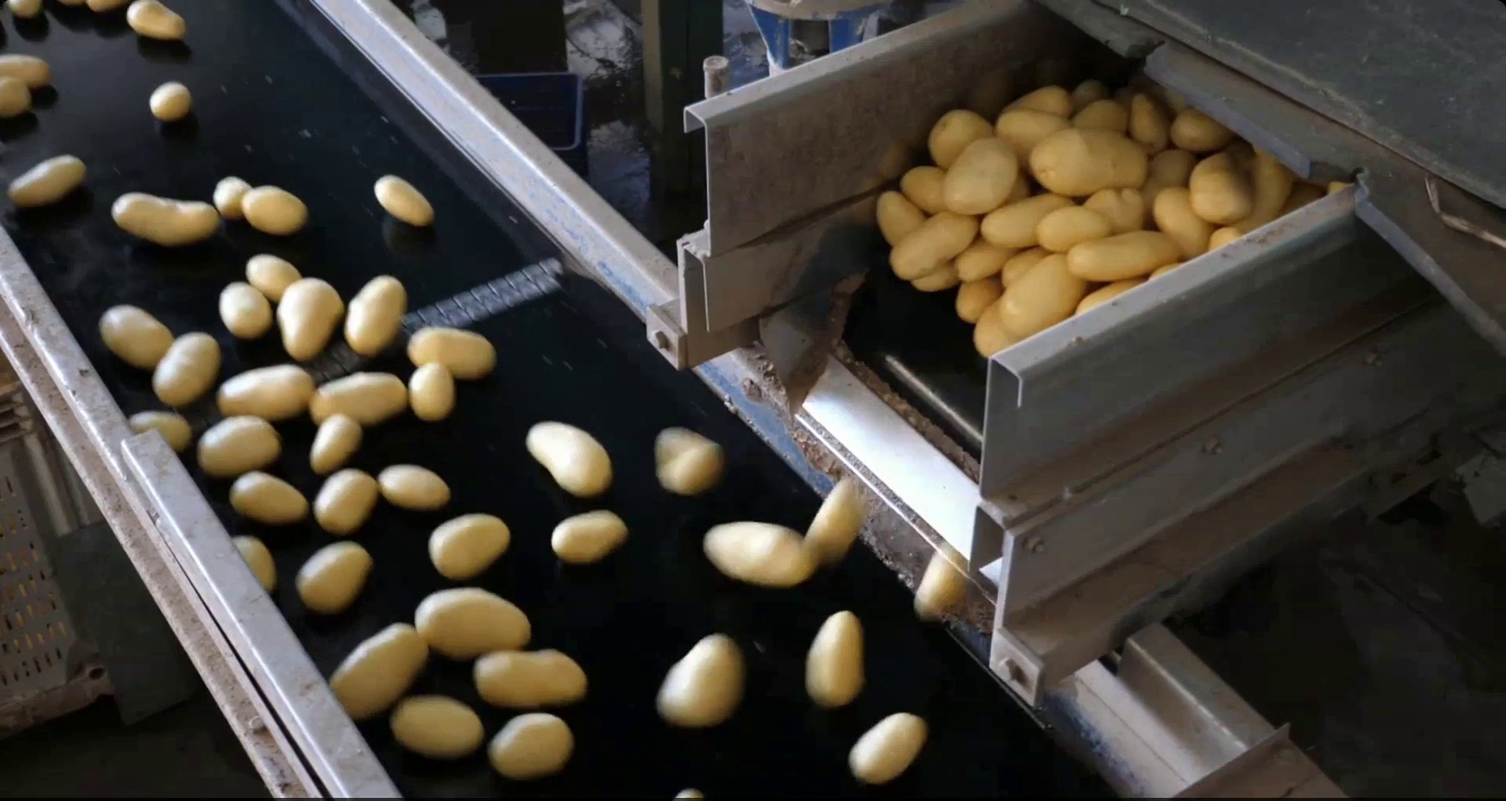potato: (326, 620, 433, 723), (696, 516, 824, 594), (1025, 122, 1155, 198), (651, 630, 748, 730), (412, 587, 535, 662), (997, 247, 1089, 342), (518, 416, 618, 502), (471, 646, 591, 712), (273, 270, 350, 367), (839, 708, 932, 788), (107, 188, 224, 251), (885, 208, 984, 282), (388, 692, 489, 762), (1063, 228, 1189, 284), (939, 134, 1020, 219), (800, 608, 868, 709), (802, 469, 868, 571), (486, 710, 578, 783), (291, 538, 377, 616), (425, 510, 515, 583), (214, 361, 318, 424), (148, 327, 225, 409), (340, 272, 412, 359), (193, 412, 286, 479), (94, 302, 180, 372), (976, 190, 1083, 246), (307, 368, 412, 425), (909, 535, 975, 624), (990, 103, 1077, 170), (4, 150, 94, 212), (653, 424, 728, 498), (406, 322, 500, 381), (1187, 150, 1257, 226), (965, 292, 1040, 362), (310, 464, 380, 538), (225, 467, 311, 527), (1150, 182, 1212, 265), (924, 107, 999, 173), (546, 509, 631, 567), (239, 179, 315, 239), (1032, 201, 1114, 255), (374, 458, 454, 513), (1070, 270, 1155, 321), (303, 410, 365, 478), (1248, 145, 1293, 237), (216, 275, 276, 343), (369, 172, 437, 231), (871, 187, 931, 253), (1081, 183, 1153, 237), (1167, 102, 1239, 155), (227, 531, 280, 600), (404, 357, 458, 424), (242, 250, 307, 304), (1125, 88, 1173, 161), (948, 237, 1022, 283), (126, 407, 191, 458), (1001, 82, 1076, 125), (897, 162, 952, 219), (999, 244, 1053, 292), (1071, 95, 1133, 136), (952, 276, 1006, 323), (147, 77, 195, 126), (1145, 147, 1199, 189), (210, 172, 254, 223), (2, 49, 56, 90), (1278, 178, 1328, 222), (905, 261, 965, 294), (1, 73, 35, 121), (1068, 77, 1109, 114), (1206, 222, 1246, 257), (1147, 259, 1191, 285), (1004, 170, 1034, 208), (672, 781, 709, 801), (131, 34, 195, 43)
